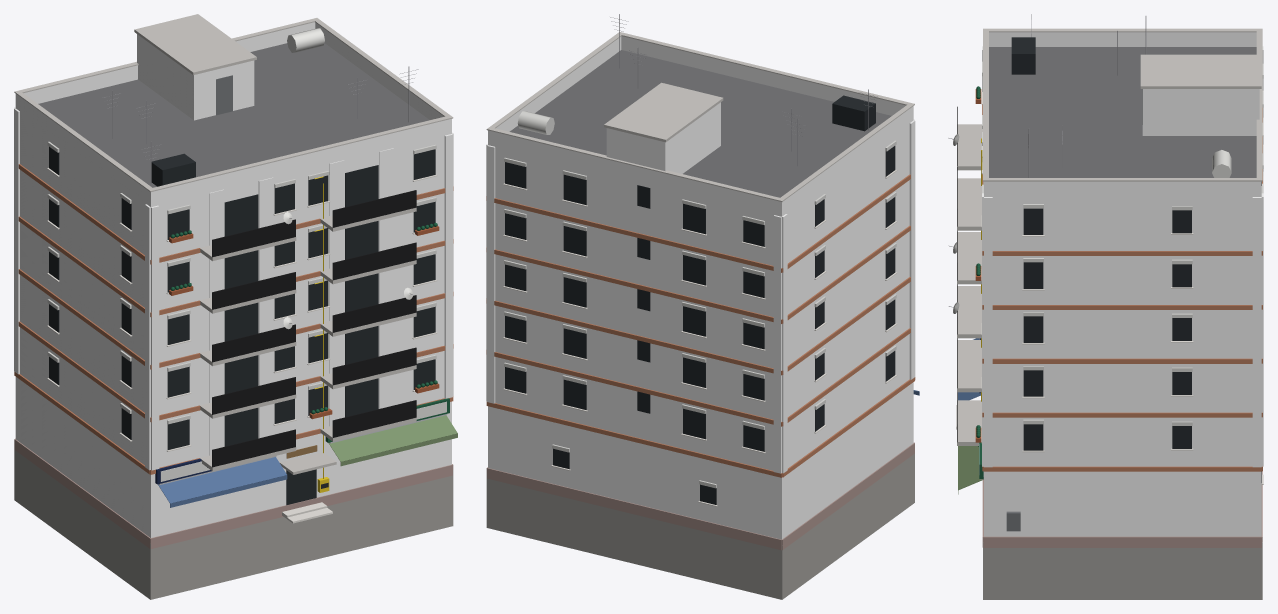
The model's file is bina_00.glb.
3 views of the same model, side by side, from view 1: azimuth 30°, elevation 25°; view 2: azimuth 150°, elevation 25°; view 3: azimuth 270°, elevation 25° (orthographic). The views are drawn at different scales.
Parts seen in each view (by area): view 1: P00_Apt_Dukkanli_A_L1.001; view 2: P00_Apt_Dukkanli_A_L1.001; view 3: P00_Apt_Dukkanli_A_L1.001.
Boxes of the visible parts, x1=… form: P00_Apt_Dukkanli_A_L1.001: x1=14, y1=14, x2=457, y2=599; P00_Apt_Dukkanli_A_L1.001: x1=486, y1=14, x2=919, y2=599; P00_Apt_Dukkanli_A_L1.001: x1=948, y1=14, x2=1263, y2=599.
Size of the model in its own units: 18.31 by 25.63 by 15.91.
